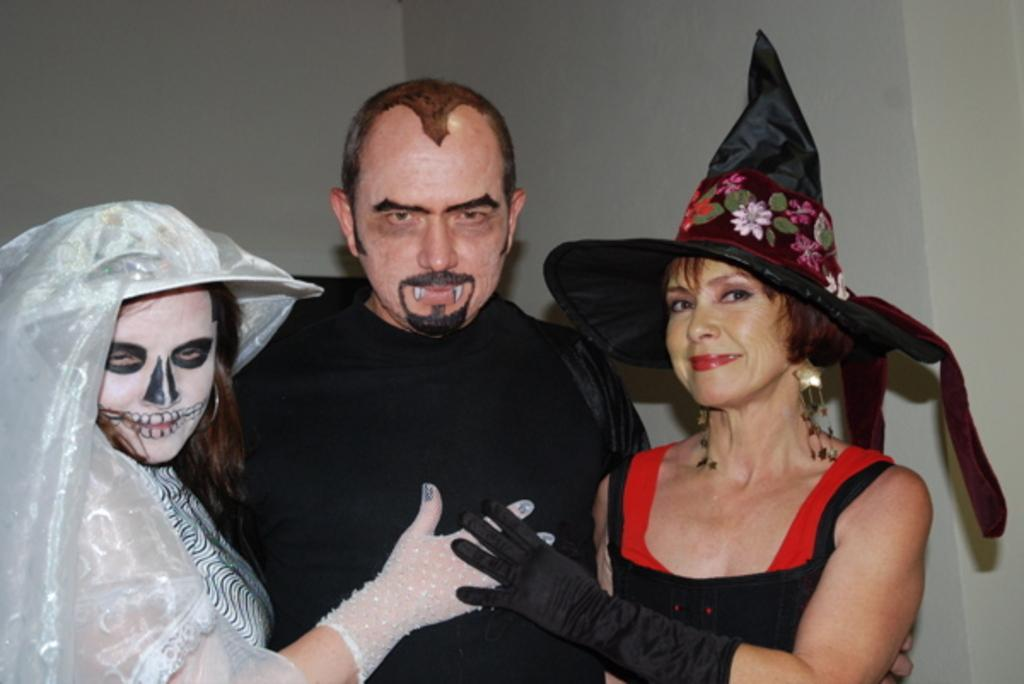Hat: (542, 28, 1010, 540), (10, 194, 318, 366)
